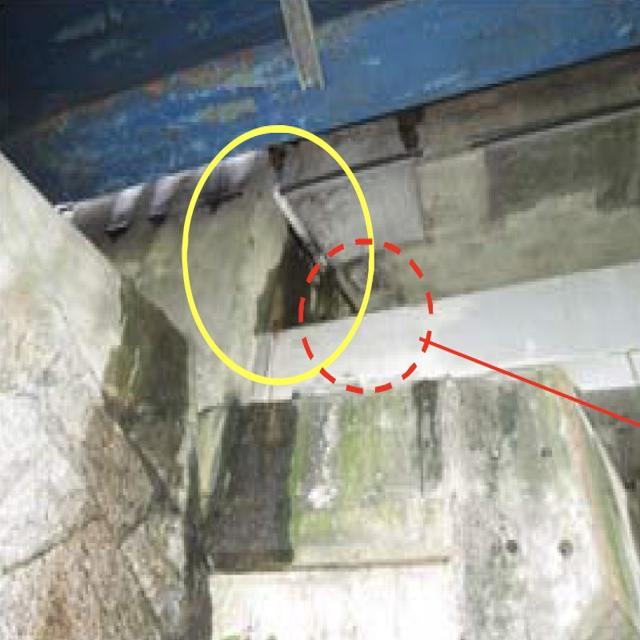leakage: (89, 270, 187, 500), (198, 396, 306, 570), (246, 200, 347, 356)
